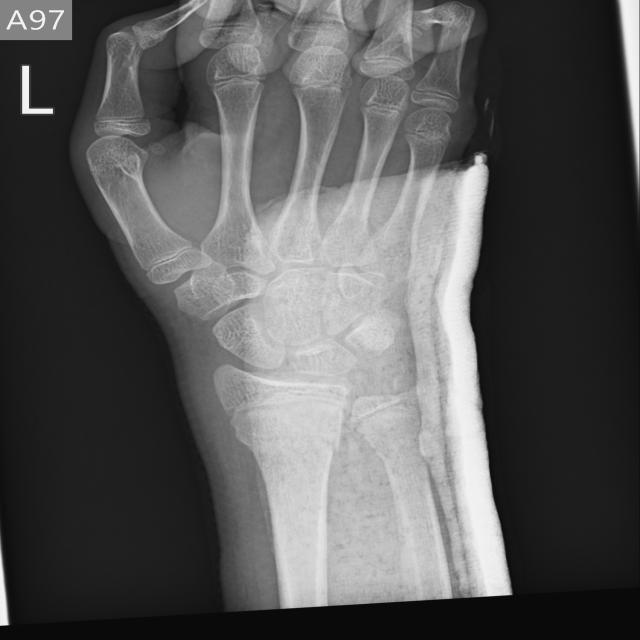fracture: (211, 392, 343, 497)
